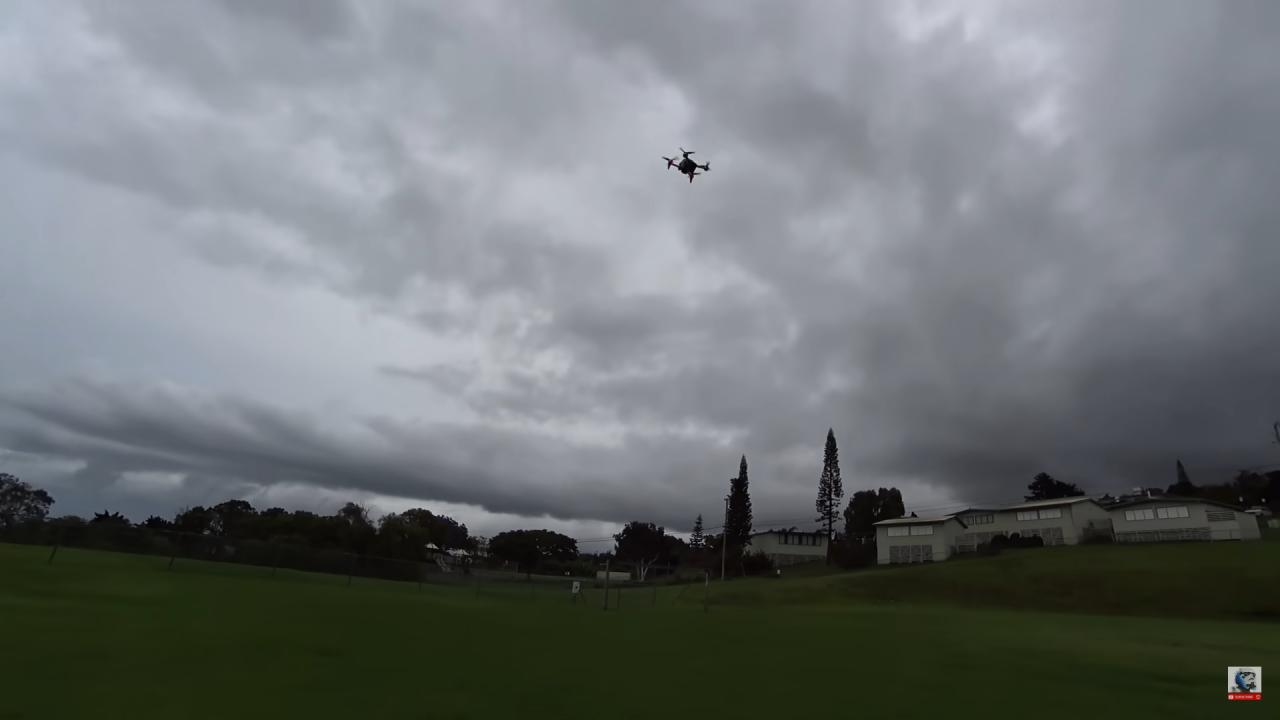Drone: (646, 136, 727, 198)
